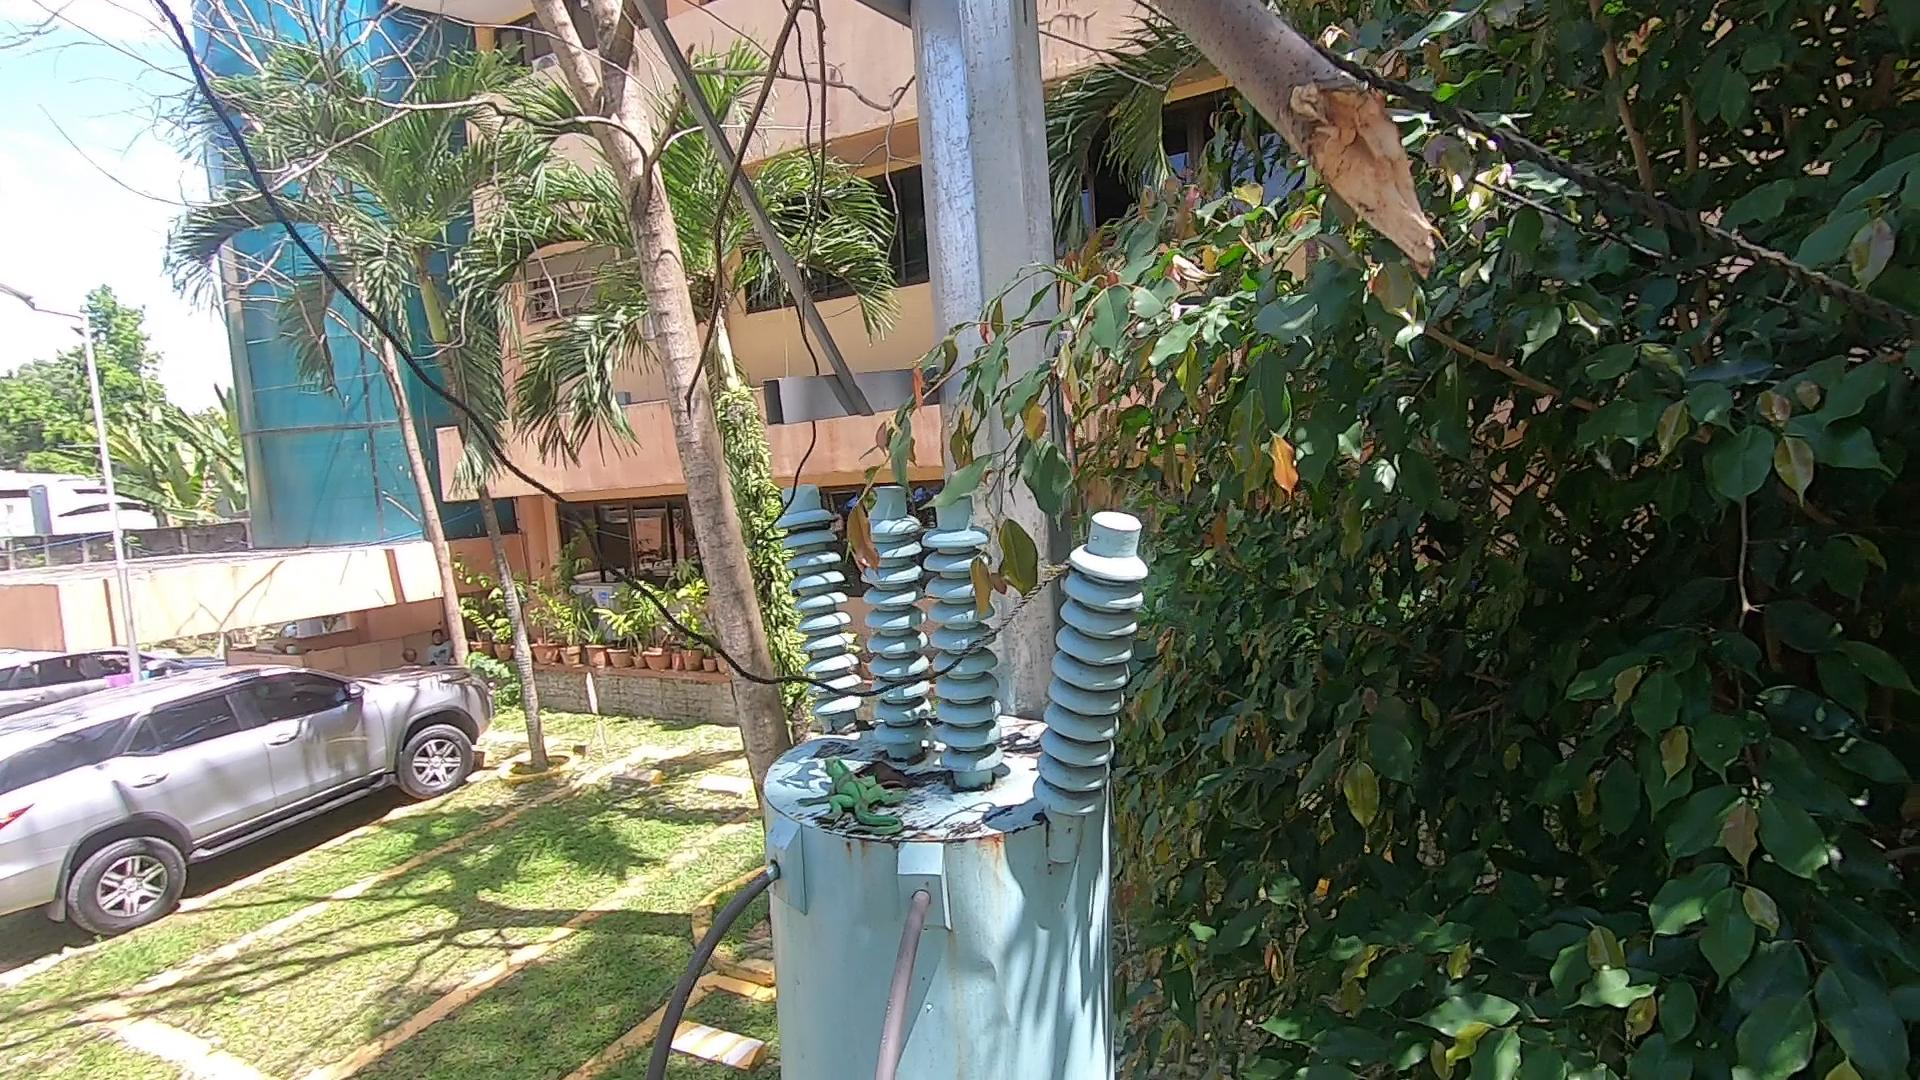branch with leaves: (796, 262, 1101, 607)
leaf: (844, 757, 940, 798), (994, 731, 1054, 766), (825, 716, 887, 746)
tree branch: (1124, 11, 1472, 278)
